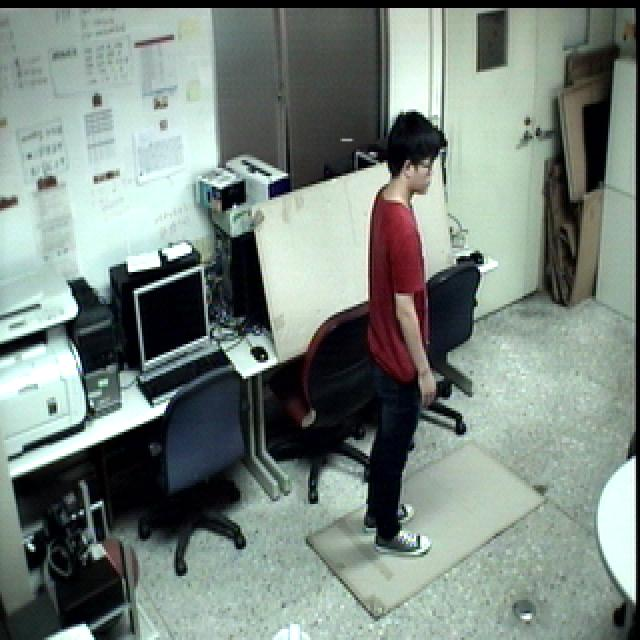stand: (351, 107, 454, 572)
